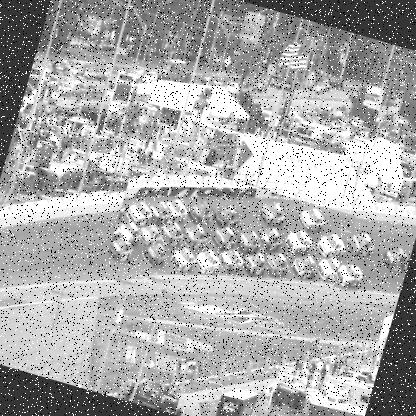Car: (104, 154, 356, 331), (256, 78, 411, 157), (32, 40, 160, 102), (122, 376, 182, 414), (377, 239, 413, 275), (332, 262, 364, 296), (344, 228, 380, 258), (139, 64, 162, 87), (102, 70, 121, 93), (106, 112, 123, 125), (254, 76, 266, 92), (315, 82, 327, 98), (230, 82, 236, 91)
